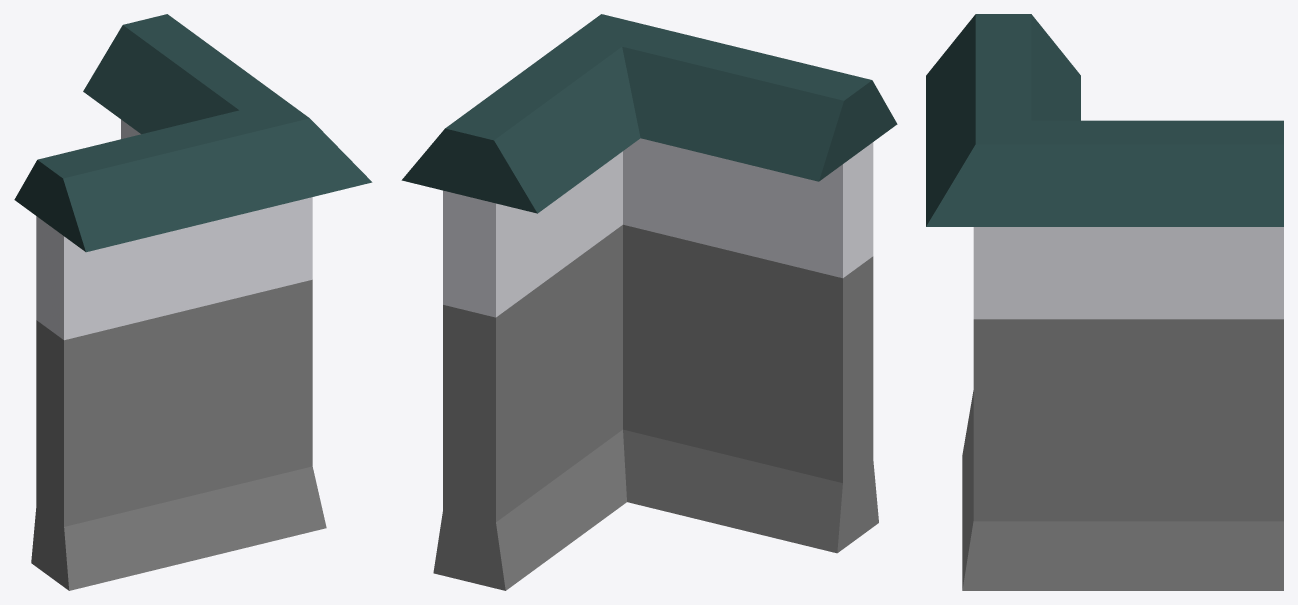
Rendered from Asian_Prop_Building_Fence_Wall_High_Corner_02.FBX.
3 renders of one model, left to right at view 1: azimuth 30°, elevation 25°; view 2: azimuth 150°, elevation 25°; view 3: azimuth 270°, elevation 25°, orthographic. The views are drawn at different scales.
Visible parts, largest first — view 1: Asian_Prop_Building_Fence_Wall_High_Corner_02; view 2: Asian_Prop_Building_Fence_Wall_High_Corner_02; view 3: Asian_Prop_Building_Fence_Wall_High_Corner_02.
Boxes of the visible parts, x1,y1,x2,y2 form: Asian_Prop_Building_Fence_Wall_High_Corner_02: (14, 14, 372, 590); Asian_Prop_Building_Fence_Wall_High_Corner_02: (401, 14, 897, 590); Asian_Prop_Building_Fence_Wall_High_Corner_02: (926, 14, 1283, 590).
Bounding box in the file's own units: 2979 × 4051 × 2979.
